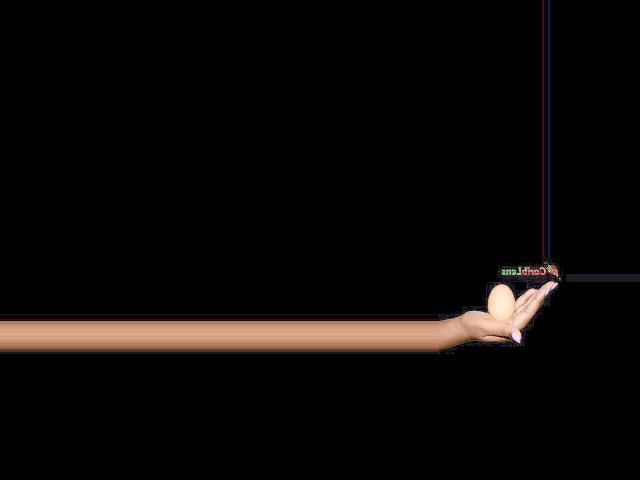egg: (487, 284, 515, 321)
